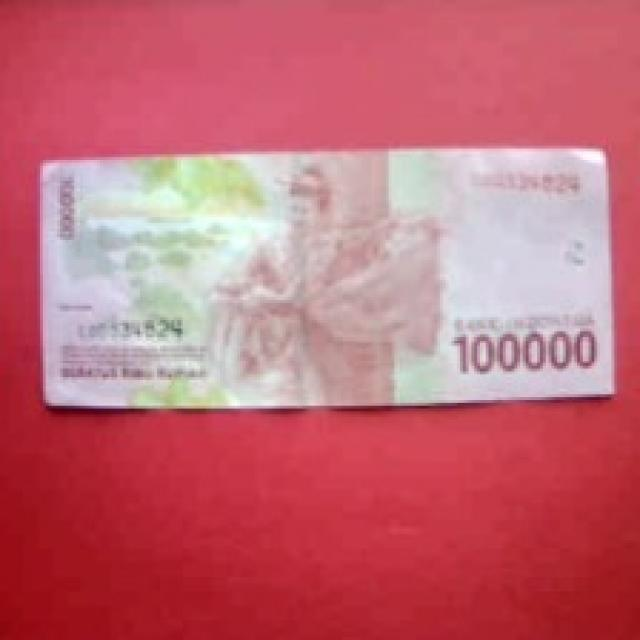lima puluh ribu rupiah: (31, 132, 608, 406)
